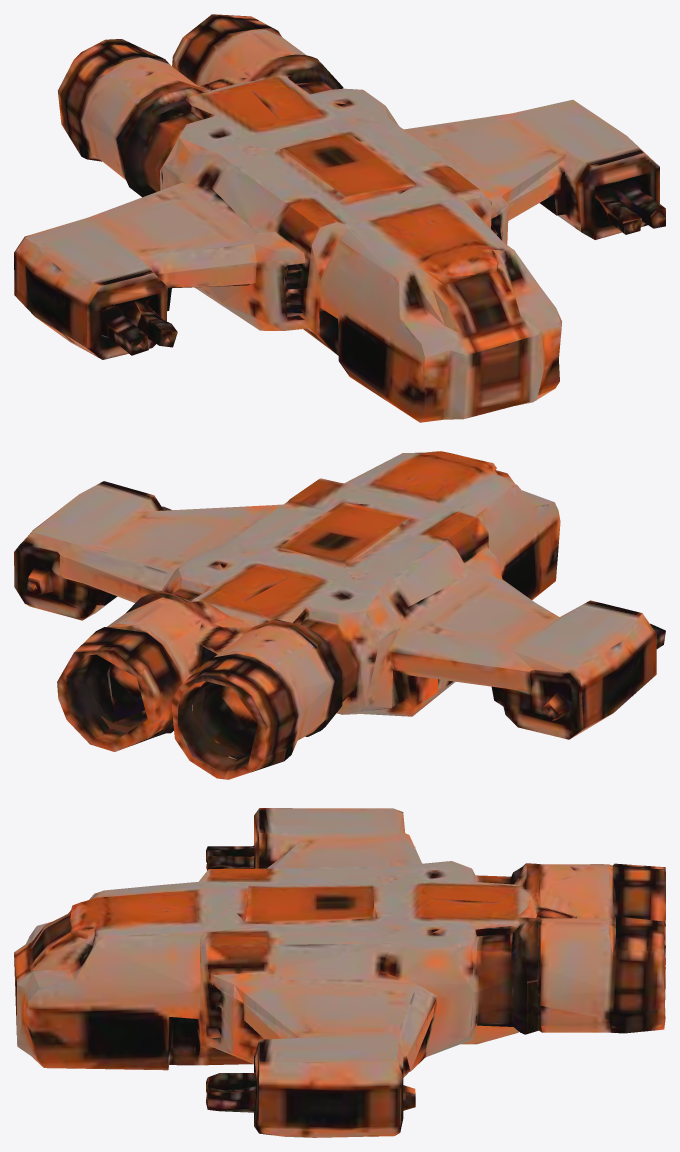
Rendered from enemy-heavy-s9.glb.
The picture shows the model from 3 angles, top to bottom: view 1: azimuth 30°, elevation 25°; view 2: azimuth 150°, elevation 25°; view 3: azimuth 270°, elevation 25°; orthographic projection. The views are drawn at different scales.
Visible parts, largest first — view 1: 9adbb147-c497-479b-8c6b-6f7a91005b4a_texturing.obj; view 2: 9adbb147-c497-479b-8c6b-6f7a91005b4a_texturing.obj; view 3: 9adbb147-c497-479b-8c6b-6f7a91005b4a_texturing.obj.
Part boxes in pixels (x1,y1,x2,y2): 9adbb147-c497-479b-8c6b-6f7a91005b4a_texturing.obj: [14, 14, 665, 422]; 9adbb147-c497-479b-8c6b-6f7a91005b4a_texturing.obj: [14, 451, 665, 779]; 9adbb147-c497-479b-8c6b-6f7a91005b4a_texturing.obj: [14, 808, 665, 1137].
Bounding box in the file's own units: 1.99 × 0.486 × 1.99.
Materials: 1 (1 with a texture image).
